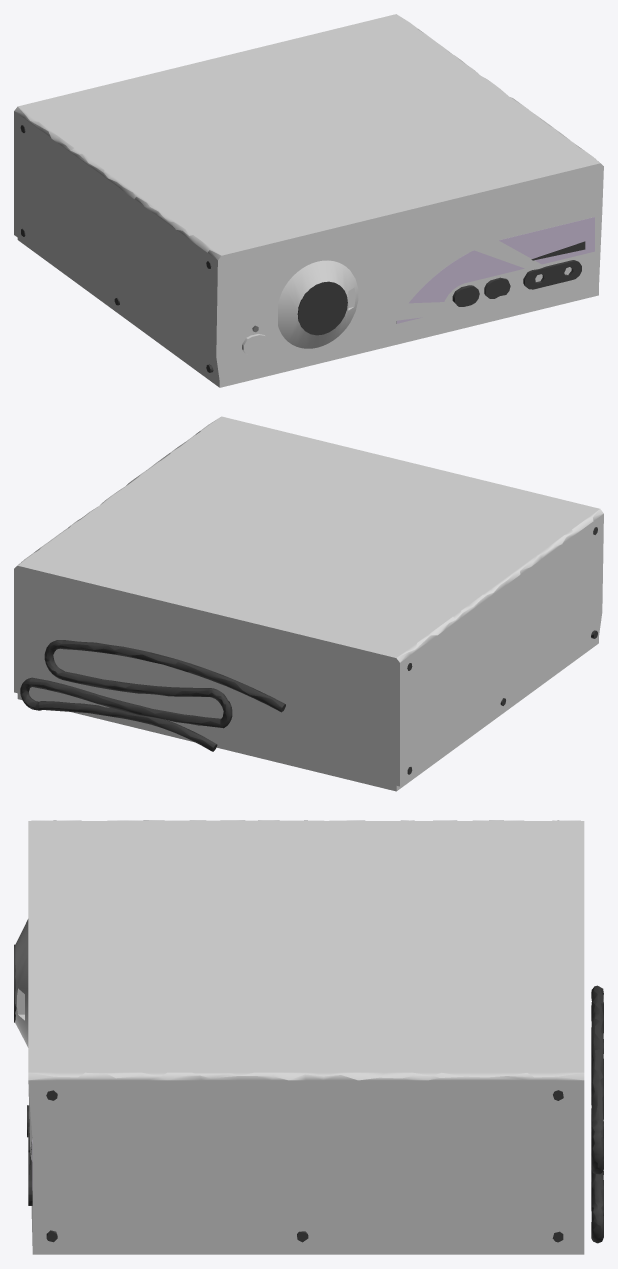
File: w-Medical Equipment - Olympus Xenon Light Source ControlBox w-Medical Equipment - Olympus Xenon Light Source ControlBox [293734].fbx
3 renders of one model, top to bottom at view 1: azimuth 30°, elevation 25°; view 2: azimuth 150°, elevation 25°; view 3: azimuth 270°, elevation 25°, orthographic. The views are drawn at different scales.
Parts seen in each view (by area): view 1: w_Medical_Equipment___Olympus_Xenon_Light_Source_ControlBox_; view 2: w_Medical_Equipment___Olympus_Xenon_Light_Source_ControlBox_; view 3: w_Medical_Equipment___Olympus_Xenon_Light_Source_ControlBox_.
Boxes of the visible parts, x1,y1,x2,y2 form: w_Medical_Equipment___Olympus_Xenon_Light_Source_ControlBox_: (14, 14, 603, 387); w_Medical_Equipment___Olympus_Xenon_Light_Source_ControlBox_: (14, 416, 603, 791); w_Medical_Equipment___Olympus_Xenon_Light_Source_ControlBox_: (14, 820, 603, 1254).
Bounding box in the file's own units: 32.88 × 10.95 × 31.82.
